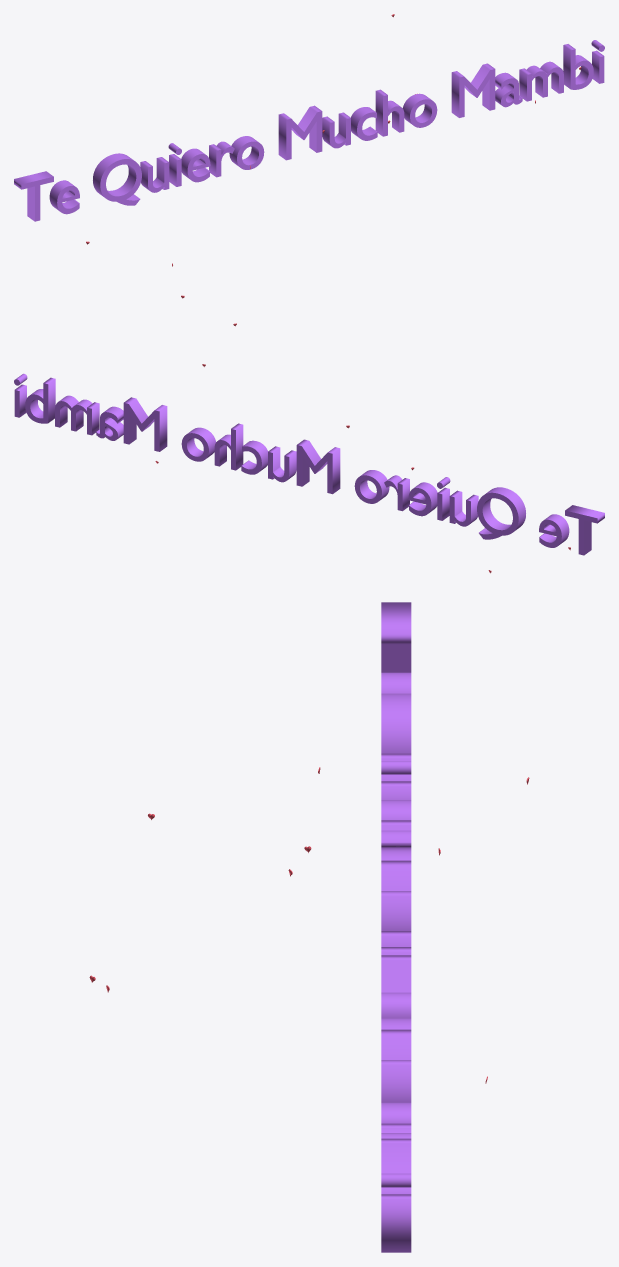
Rendered from ar_hearts_te_quiero_mambi.glb.
3 views of the same model, one above another, from view 1: azimuth 30°, elevation 25°; view 2: azimuth 150°, elevation 25°; view 3: azimuth 270°, elevation 25° (orthographic). The views are drawn at different scales.
Parts seen in each view (by area): view 1: Text; view 2: Text; view 3: Text.
Boxes of the visible parts, x1,y1,x2,y2 form: Text: [14, 40, 604, 221]; Text: [14, 373, 604, 555]; Text: [381, 602, 411, 1252].
Bounding box in the file's own units: 3.6 × 0.7572 × 1.17.
